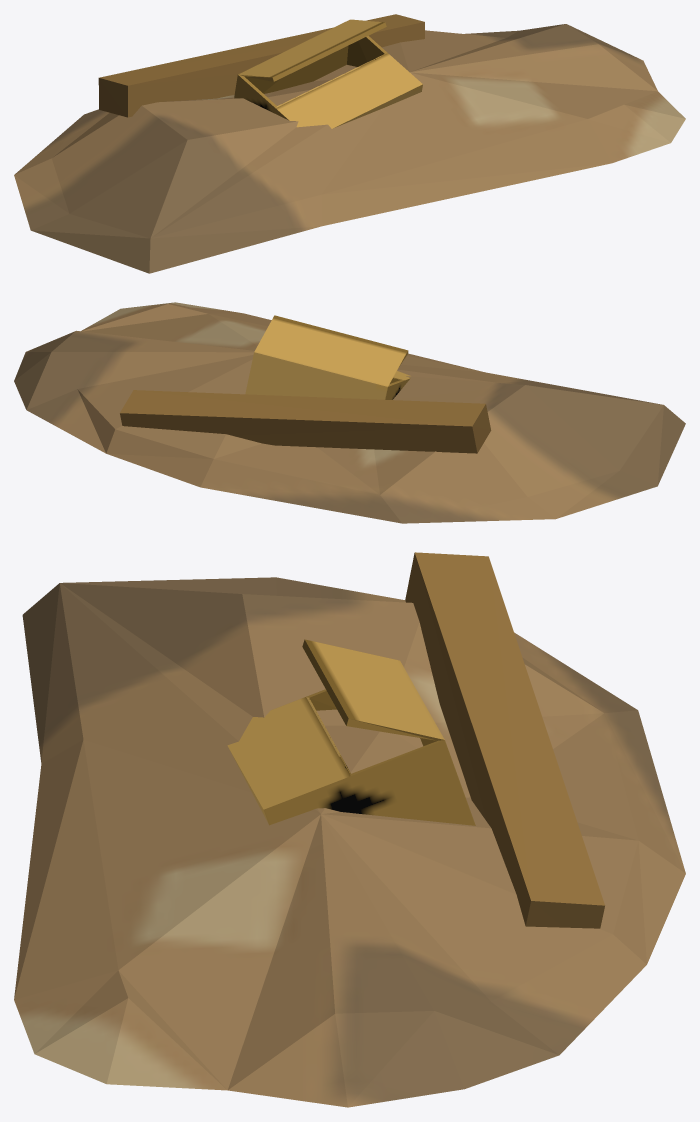
File: SM_RubishPile_01.fbx
3 renders of one model, top to bottom at view 1: azimuth 30°, elevation 25°; view 2: azimuth 150°, elevation 25°; view 3: azimuth 270°, elevation 25°, orthographic. The views are drawn at different scales.
Parts seen in each view (by area): view 1: SM_RubishPile_01; view 2: SM_RubishPile_01; view 3: SM_RubishPile_01.
Boxes of the visible parts, x1,y1,x2,y2 form: SM_RubishPile_01: (14,14,685,273); SM_RubishPile_01: (14,302,685,523); SM_RubishPile_01: (14,552,685,1107).
Bounding box in the file's own units: 3.05 × 0.4642 × 1.63.
